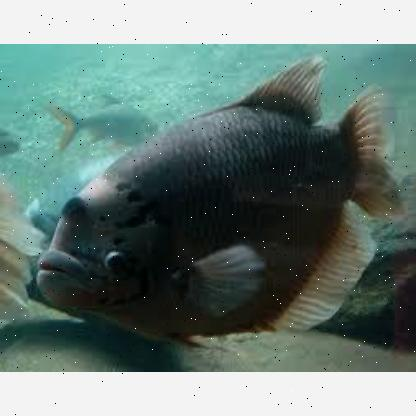gurame: (38, 56, 392, 342)
